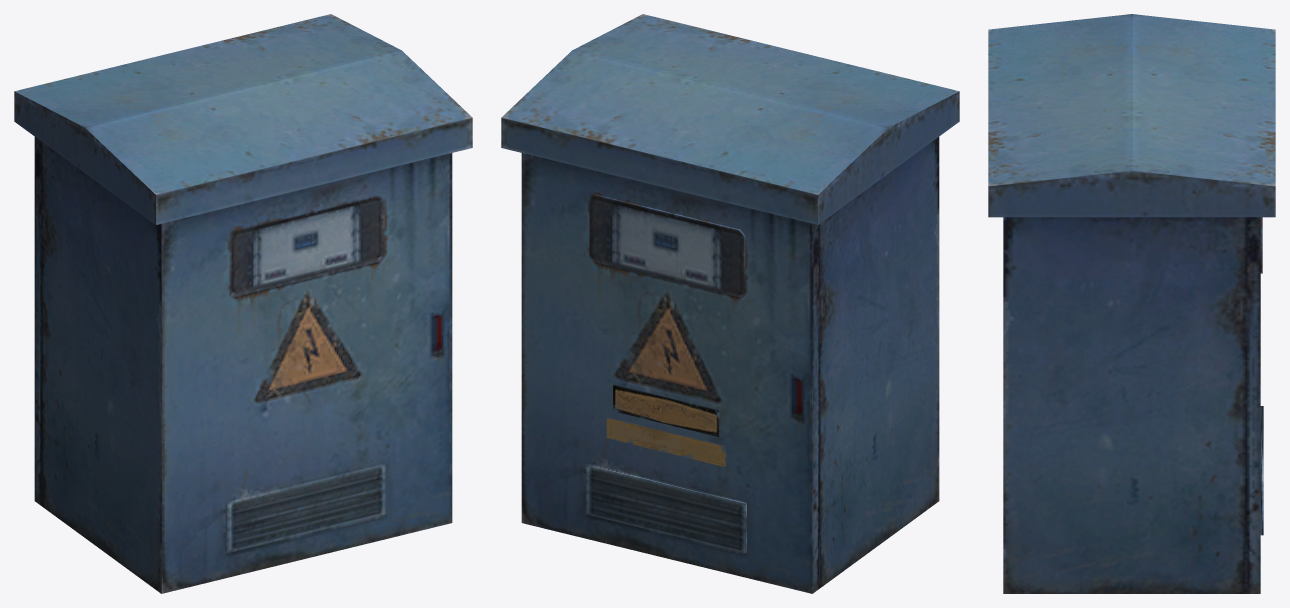
The model's file is Prop_Dx01.glb.
The picture shows the model from 3 angles, left to right: view 1: azimuth 30°, elevation 25°; view 2: azimuth 150°, elevation 25°; view 3: azimuth 270°, elevation 25°; orthographic projection.
Visible parts, largest first — view 1: xiutz_dx_01; view 2: xiutz_dx_01; view 3: xiutz_dx_01.
Boxes of the visible parts, left/top/right/bottom form: xiutz_dx_01: left=14, top=14, right=472, bottom=593; xiutz_dx_01: left=501, top=14, right=959, bottom=593; xiutz_dx_01: left=988, top=14, right=1275, bottom=593.
Bounding box in the file's own units: 1.49 × 1.9 × 1.15.
Materials: 1 (1 with a texture image).
